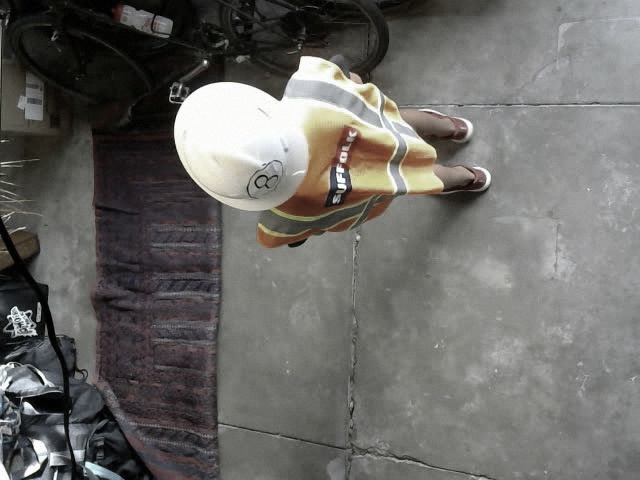eight: (246, 160, 284, 199)
